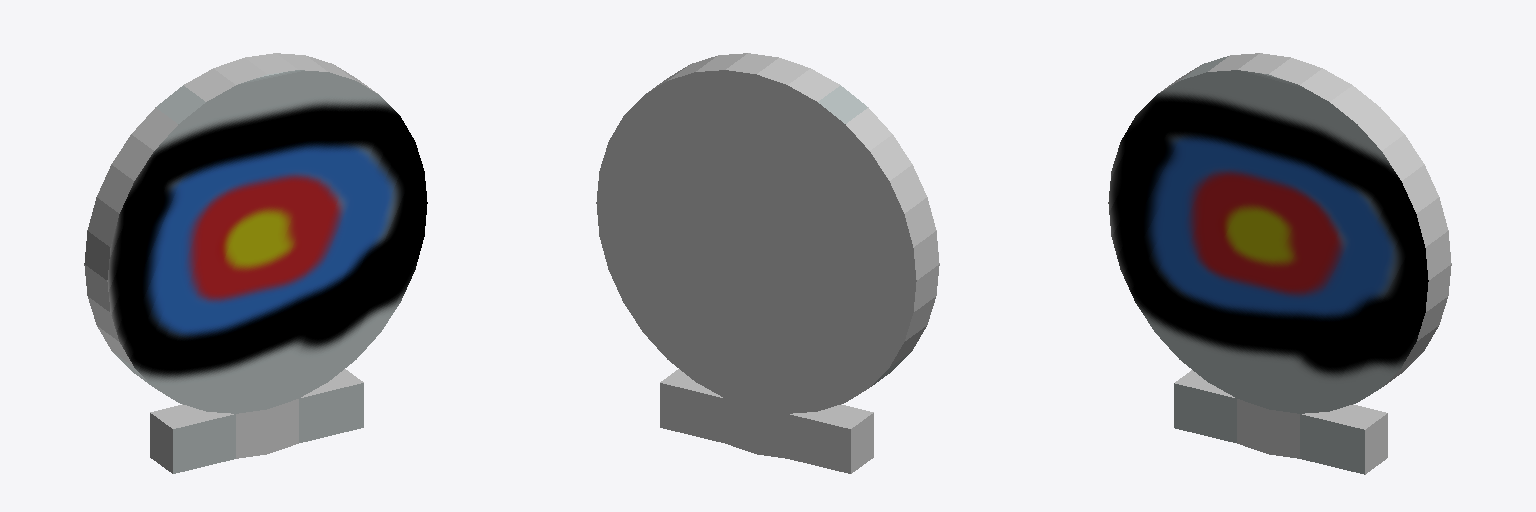
The picture shows the model from 3 angles: view 1: azimuth 30°, elevation 25°; view 2: azimuth 150°, elevation 25°; view 3: azimuth 330°, elevation 25°; orthographic projection.
Visible parts, largest first — view 1: Cylinder; view 2: Cylinder; view 3: Cylinder.
Part boxes in pixels (left/top/right/bottom): Cylinder: left=84, top=53, right=427, bottom=473; Cylinder: left=596, top=53, right=939, bottom=473; Cylinder: left=1108, top=53, right=1451, bottom=474.
Size of the model in its own units: 2 by 2.27 by 0.2497.
2 materials, 1 textured.